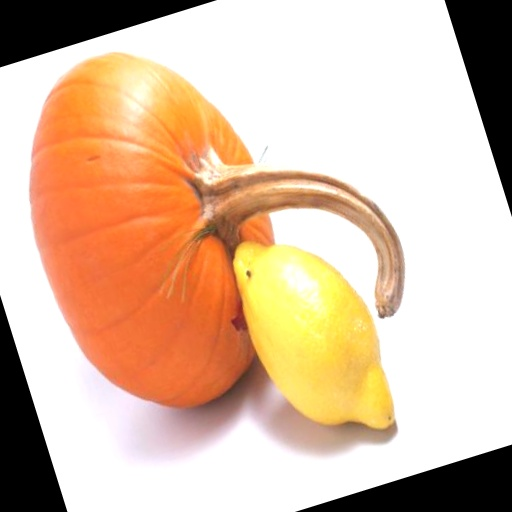fruit: (92, 146, 427, 512), (0, 178, 167, 512)
